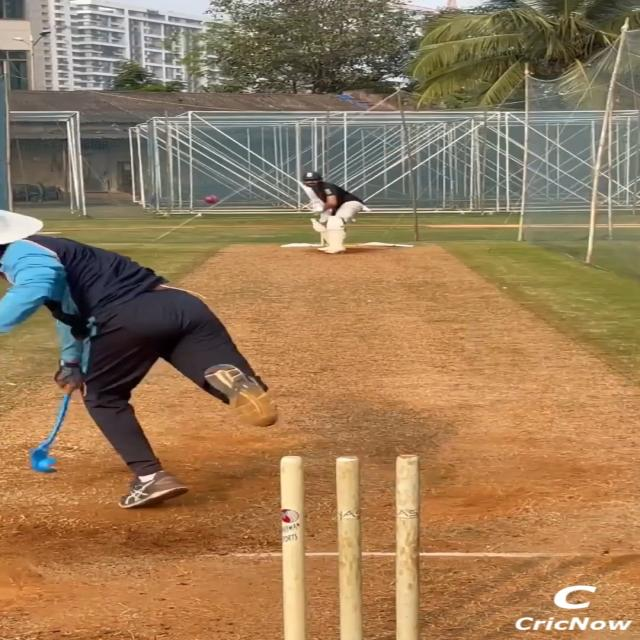ball: (204, 194, 220, 205)
stump: (276, 454, 426, 640)
